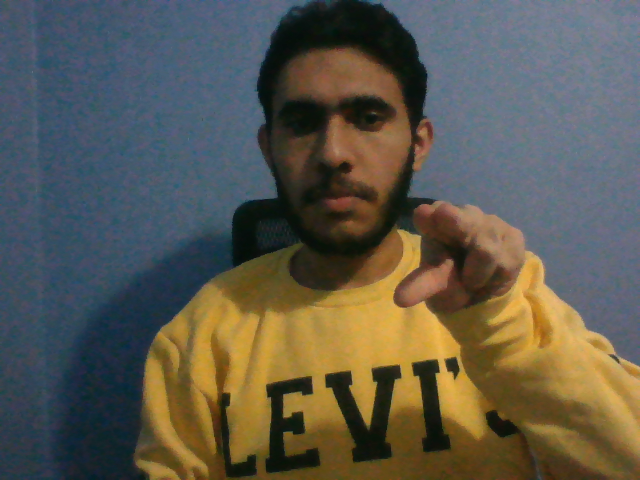no: (387, 197, 533, 317)
